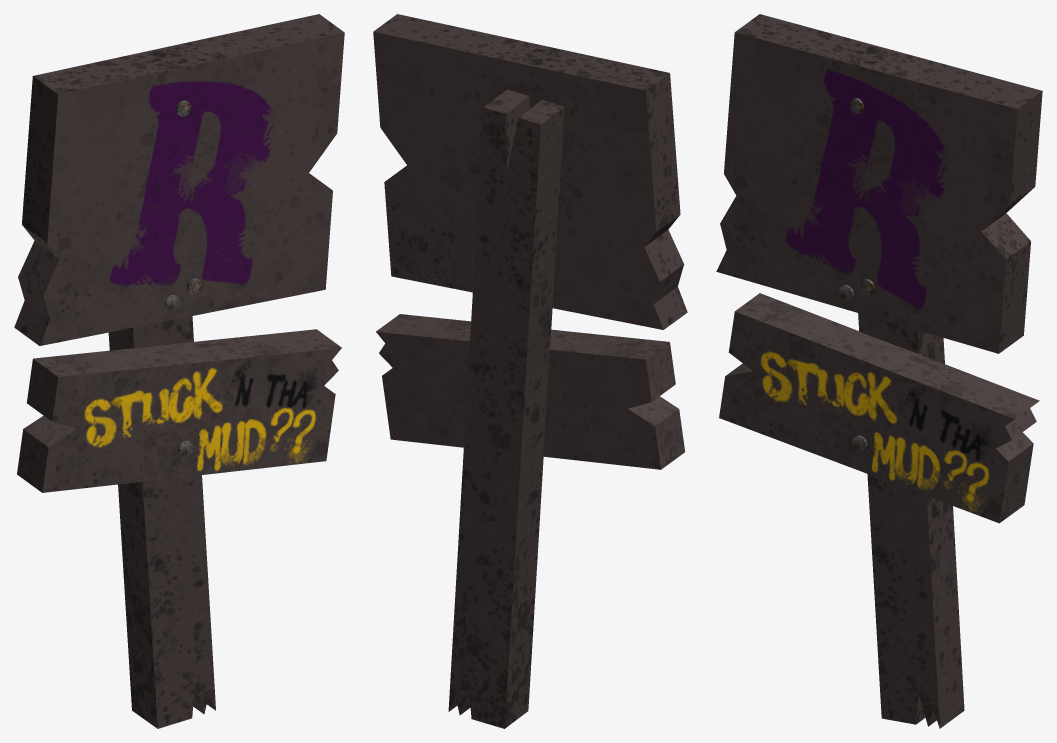
File: Sign.fbx
The picture shows the model from 3 angles, left to right: view 1: azimuth 30°, elevation 25°; view 2: azimuth 150°, elevation 25°; view 3: azimuth 330°, elevation 25°; orthographic projection. The views are drawn at different scales.
Visible parts, largest first — view 1: pCube4, pCube3, pCube5; view 2: pCube4, pCube5, pCube3; view 3: pCube4, pCube3, pCube5.
Part boxes in pixels (x1,y1,x2,y2): pCube4: (14,14,344,345); pCube3: (17,329,341,492); pCube5: (108,316,215,728); pCube4: (373,14,687,329); pCube5: (448,89,564,728); pCube3: (376,314,684,469); pCube4: (716,14,1042,353); pCube3: (719,293,1039,523); pCube5: (858,313,964,728).
Bounding box in the file's own units: 22.09 × 47.24 × 6.63.
